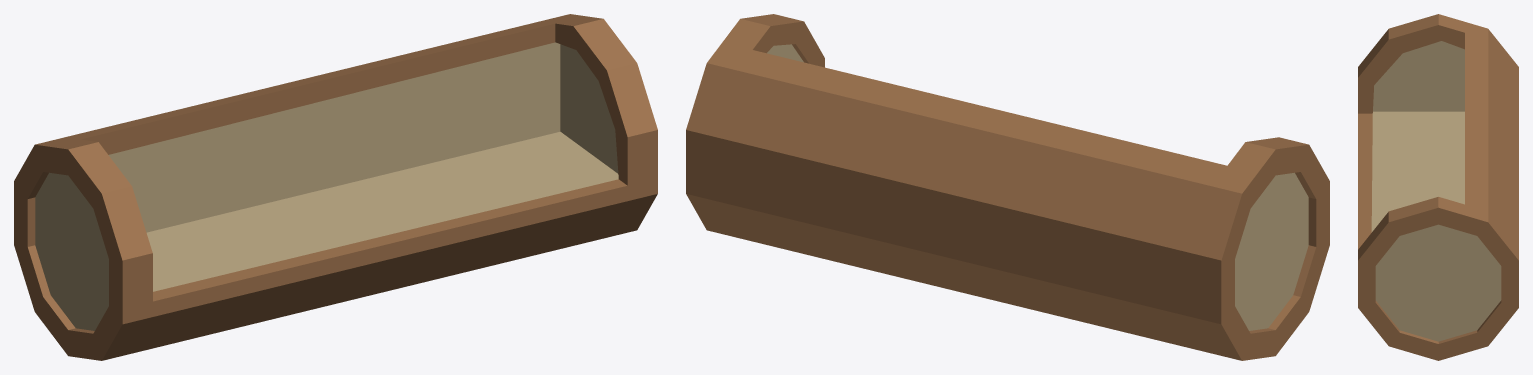
The model's file is Bench_2.fbx.
The picture shows the model from 3 angles, left to right: view 1: azimuth 30°, elevation 25°; view 2: azimuth 150°, elevation 25°; view 3: azimuth 270°, elevation 25°; orthographic projection. The views are drawn at different scales.
Visible parts, largest first — view 1: Bench2_mesh; view 2: Bench2_mesh; view 3: Bench2_mesh.
Part boxes in pixels (x1,y1,x2,y2): Bench2_mesh: (14, 14, 657, 360); Bench2_mesh: (686, 14, 1329, 360); Bench2_mesh: (1358, 14, 1518, 360).
Bounding box in the file's own units: 300 × 111 × 105.
